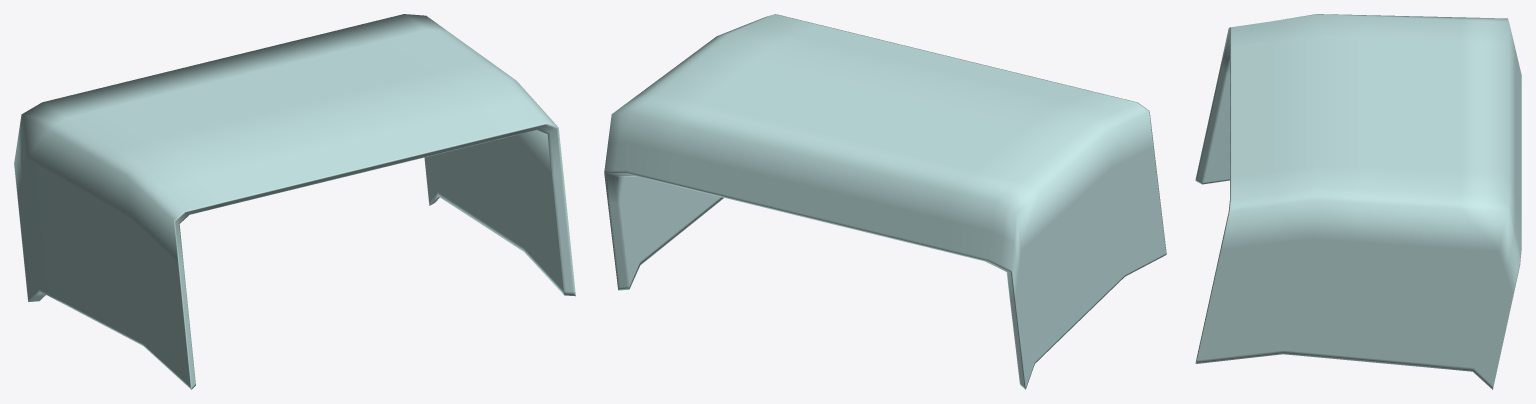
File: MVP.Car.Speedy.Part10.fbx
3 renders of one model, left to right at view 1: azimuth 30°, elevation 25°; view 2: azimuth 150°, elevation 25°; view 3: azimuth 270°, elevation 25°, orthographic. The views are drawn at different scales.
Parts seen in each view (by area): view 1: T1.01.Part10; view 2: T1.01.Part10; view 3: T1.01.Part10.
Part boxes in pixels (left/top/right/bottom): T1.01.Part10: left=14, top=14, right=575, bottom=389; T1.01.Part10: left=604, top=14, right=1166, bottom=389; T1.01.Part10: left=1195, top=14, right=1521, bottom=389.
Size of the model in its own units: 300 by 138 by 213.
